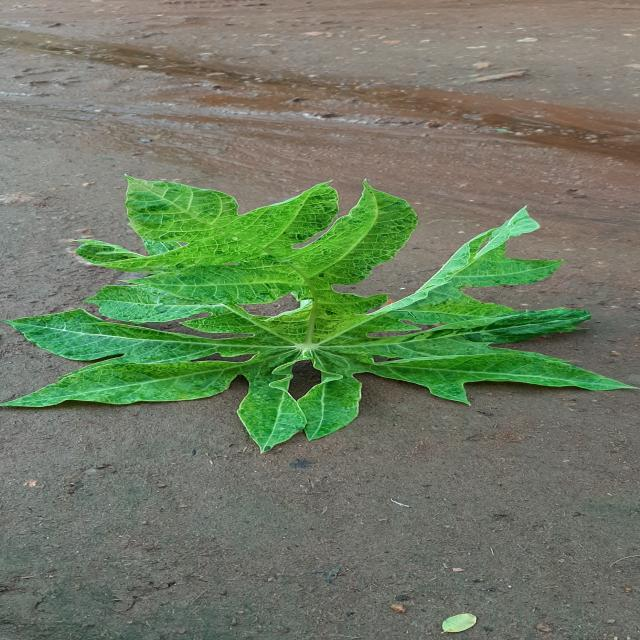papaya: (5, 176, 631, 451)
